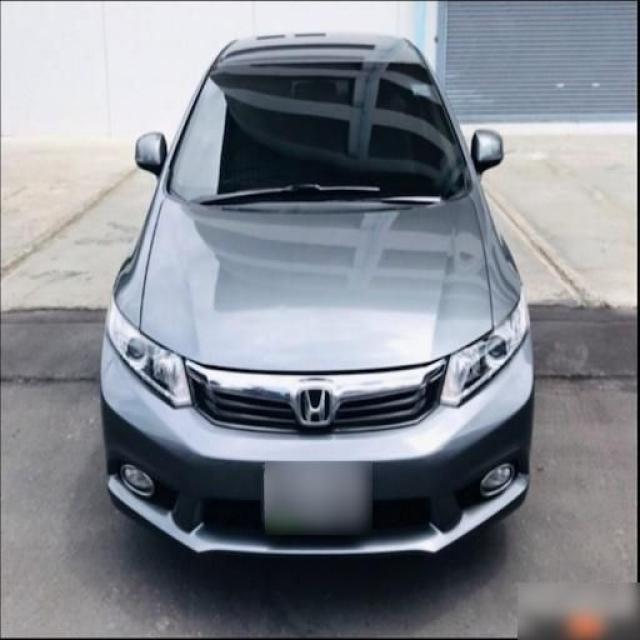front_bumper: (99, 332, 535, 558)
front_glass: (165, 62, 471, 215)
front_left_light: (439, 286, 531, 406)
front_right_light: (108, 294, 194, 409)
hood: (141, 195, 494, 373)
left_mirror: (470, 130, 504, 174)
right_mirror: (133, 134, 170, 183)
